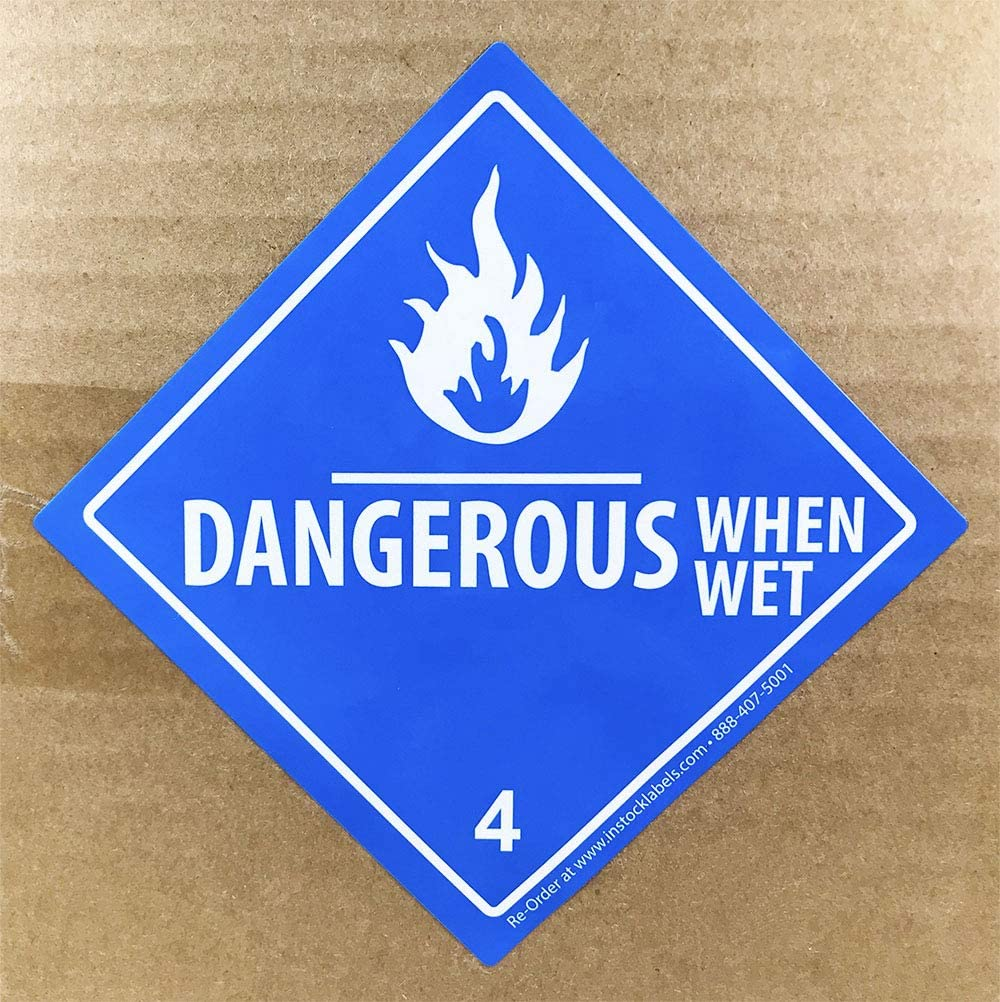Dangerous when wet: (32, 42, 967, 966)
